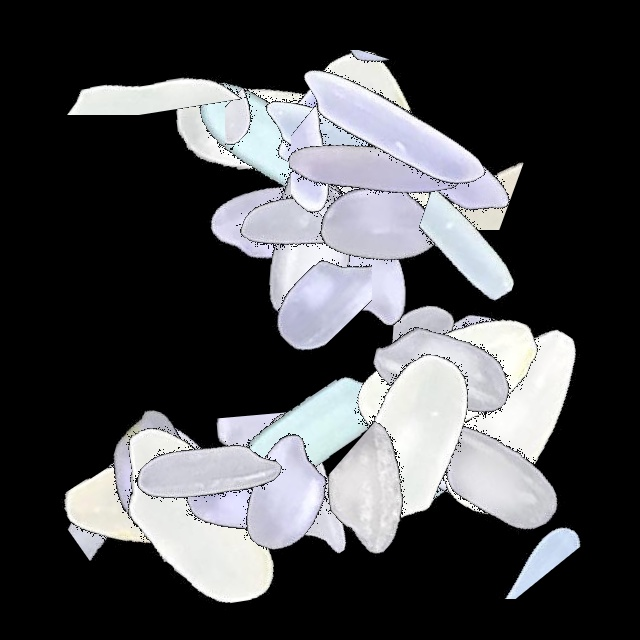Broken: (307, 320, 557, 492), (270, 160, 520, 331), (287, 4, 458, 254), (202, 183, 452, 351), (208, 269, 375, 519), (15, 407, 265, 572), (322, 386, 484, 636), (192, 386, 348, 636), (216, 140, 372, 390), (417, 120, 564, 370), (394, 210, 540, 460), (193, 135, 337, 385), (163, 405, 413, 548), (391, 239, 522, 489), (291, 32, 412, 282), (369, 480, 619, 599), (9, 0, 259, 115), (214, 345, 326, 595), (383, 328, 494, 578), (254, 23, 364, 273), (171, 497, 421, 604), (337, 125, 587, 230), (226, 50, 476, 146), (225, 0, 318, 250), (362, 320, 612, 399)
Full: (359, 234, 609, 484), (149, 99, 399, 349), (255, 65, 505, 315), (55, 346, 305, 596), (314, 322, 564, 572), (322, 327, 572, 577), (141, 2, 391, 252), (163, 16, 413, 266), (46, 380, 296, 630), (248, 23, 498, 273), (383, 289, 633, 539), (372, 349, 622, 599), (237, 19, 487, 269), (183, 96, 433, 346), (322, 252, 572, 502), (187, 122, 437, 372), (301, 26, 551, 276), (29, 345, 279, 595), (73, 390, 323, 640), (259, 98, 509, 348), (285, 322, 535, 572), (121, 371, 371, 621), (158, 370, 408, 620), (269, 0, 519, 250), (82, 351, 332, 601)
